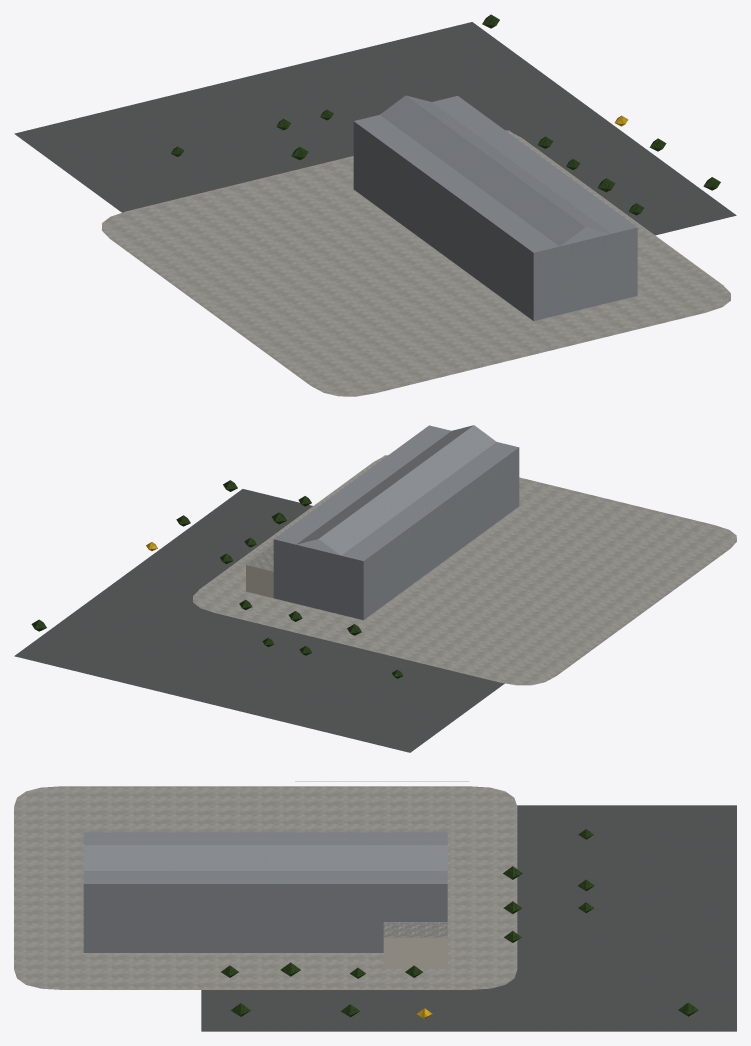
Rendered from cidade_S06_06_lod.gltf.
3 renders of one model, top to bottom at view 1: azimuth 30°, elevation 25°; view 2: azimuth 150°, elevation 25°; view 3: azimuth 270°, elevation 25°, orthographic. The views are drawn at different scales.
Parts seen in each view (by area): view 1: S06_06_Chao_LOD2, S06_06_Edificios_LOD1, S06_06_Silhueta_LOD2, S06_06_Vegetacao_LOD2; view 2: S06_06_Chao_LOD2, S06_06_Edificios_LOD1, S06_06_Silhueta_LOD2, S06_06_Vegetacao_LOD2; view 3: S06_06_Chao_LOD2, S06_06_Edificios_LOD1, S06_06_Silhueta_LOD2, S06_06_Vegetacao_LOD2.
Boxes of the visible parts, <box> form: S06_06_Chao_LOD2: <box>14,22,736,396</box>; S06_06_Edificios_LOD1: <box>123,95,708,320</box>; S06_06_Silhueta_LOD2: <box>353,96,637,320</box>; S06_06_Vegetacao_LOD2: <box>171,14,720,215</box>; S06_06_Chao_LOD2: <box>14,455,736,752</box>; S06_06_Edificios_LOD1: <box>212,425,618,663</box>; S06_06_Silhueta_LOD2: <box>273,425,519,619</box>; S06_06_Vegetacao_LOD2: <box>31,480,403,678</box>; S06_06_Chao_LOD2: <box>14,786,736,1031</box>; S06_06_Edificios_LOD1: <box>62,781,468,971</box>; S06_06_Silhueta_LOD2: <box>83,832,447,952</box>; S06_06_Vegetacao_LOD2: <box>221,829,698,1018</box>.
Bounding box in the file's own units: 109 × 17.13 × 135.
8 materials, 8 textured.
